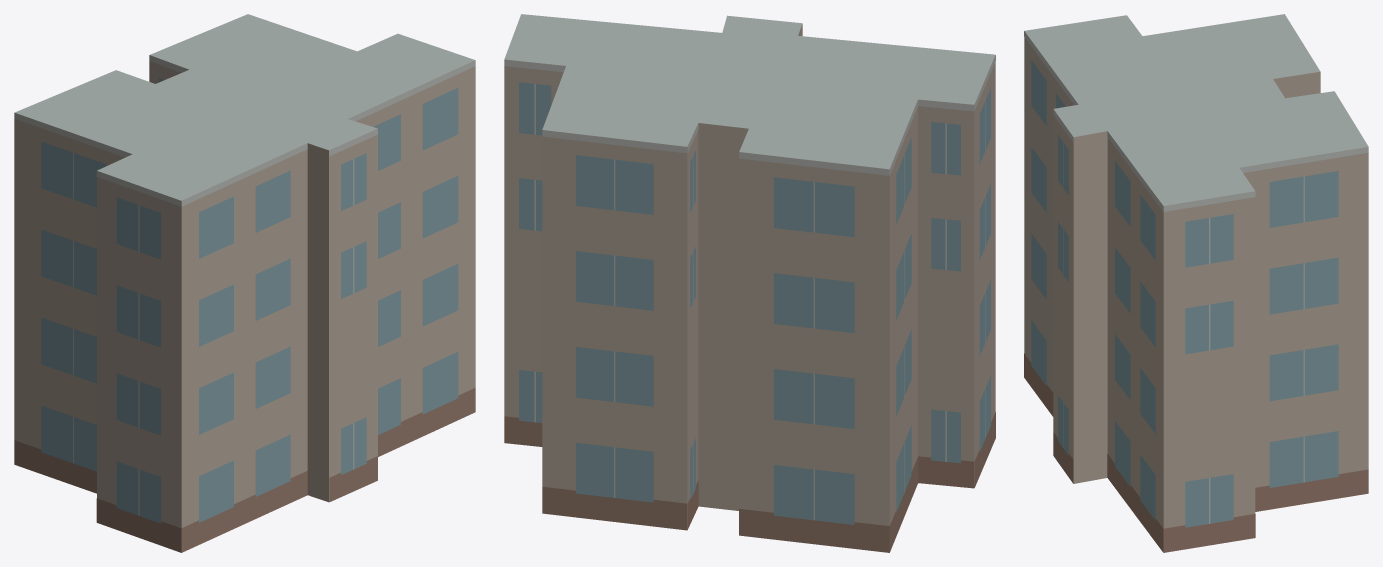
The model's file is survey-upis-32944521.glb.
3 renders of one model, left to right at view 1: azimuth 30°, elevation 25°; view 2: azimuth 150°, elevation 25°; view 3: azimuth 270°, elevation 25°, orthographic. The views are drawn at different scales.
Parts seen in each view (by area): view 1: survey-upis-32944521.tmp; view 2: survey-upis-32944521.tmp; view 3: survey-upis-32944521.tmp.
Part boxes in pixels (bbox=[...]): survey-upis-32944521.tmp: bbox=[14, 14, 475, 552]; survey-upis-32944521.tmp: bbox=[504, 14, 995, 552]; survey-upis-32944521.tmp: bbox=[1024, 14, 1368, 552].
Bounding box in the file's own units: 17 × 14.3 × 12.89.
